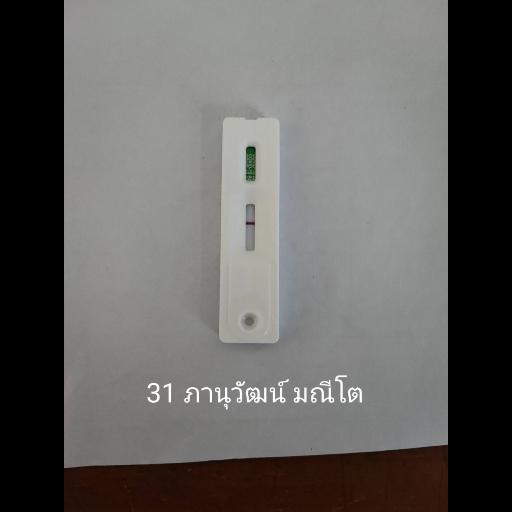Neg: (220, 116, 280, 344)
